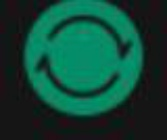ImgButton: (1, 1, 166, 139)
